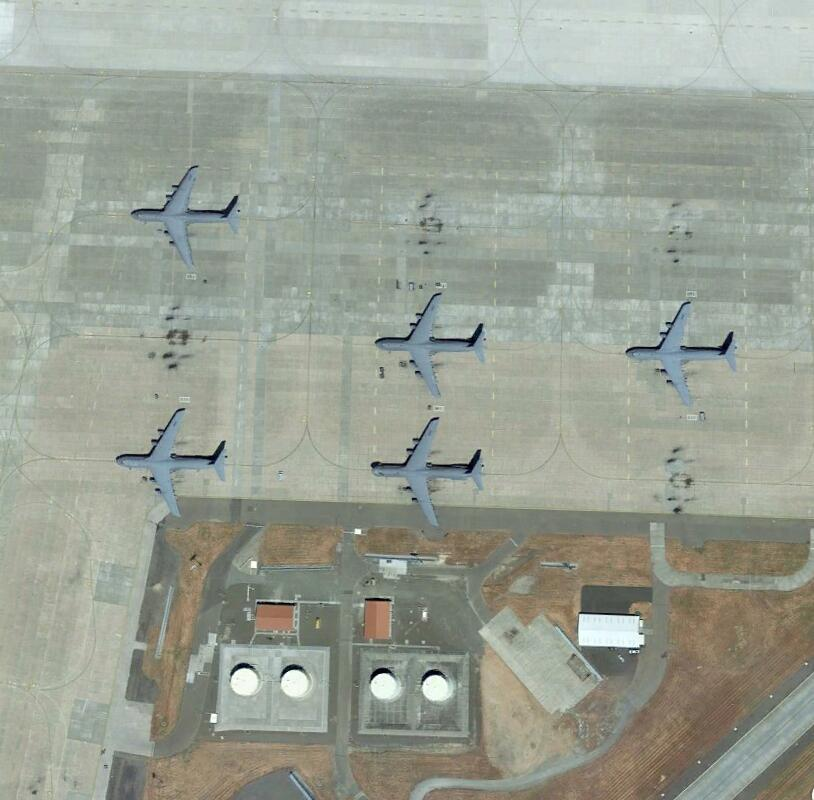A4: (370, 415, 485, 528), (112, 407, 228, 516), (376, 290, 488, 397), (629, 300, 737, 405), (132, 164, 241, 266)
